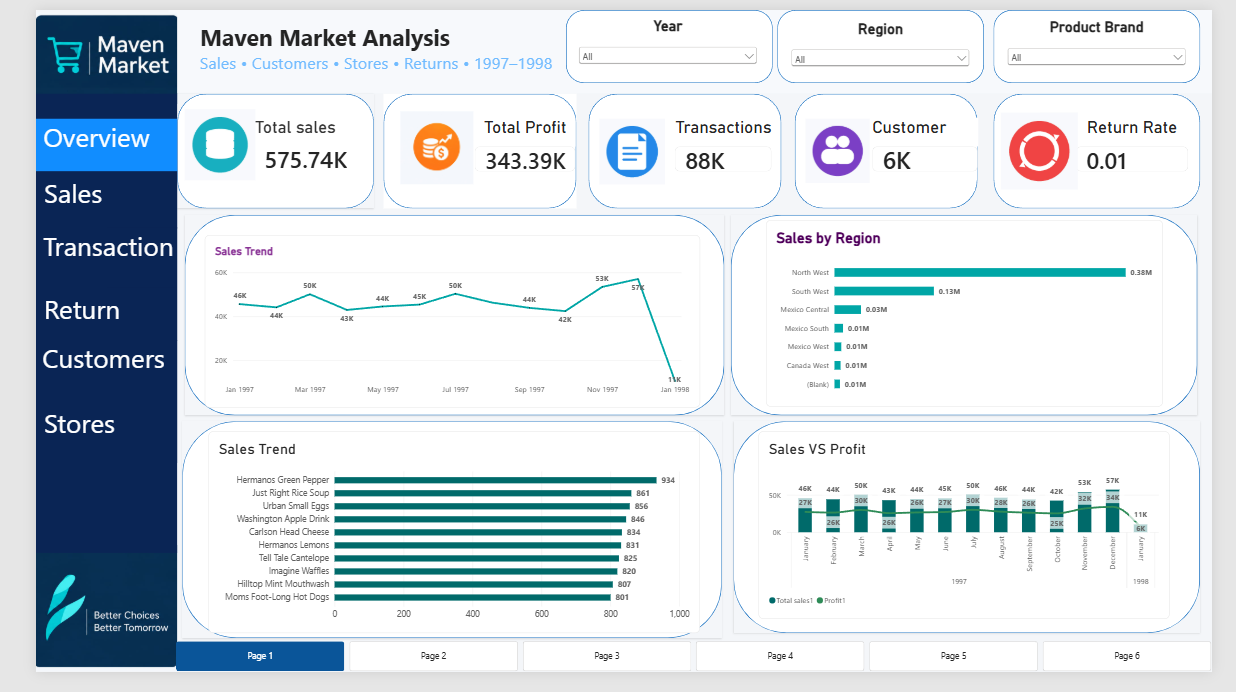

This screenshot's page, from the dashboard's own definition file:
{"tool":"powerbi","page":{"name":"Page 1","canvas":[1920,1080],"ordinal":0},"visuals":[{"type":"textbox","box":[216.1,0,1482,135.8],"z":0},{"type":"textbox","title":"Maven Market Analysis ","box":[216.1,0,1704.3,135.8],"z":1},{"type":"shape","box":[230.5,135.8,321.1,187.3],"z":8},{"type":"shape","box":[568.1,135.8,314.9,187.3],"z":9},{"type":"shape","box":[901.5,135.8,314.9,187.3],"z":10},{"type":"shape","box":[1239.1,135.8,298.5,187.3],"z":11},{"type":"shape","box":[1562.3,135.8,337.6,187.3],"z":12},{"type":"cardVisual","title":"Total sales ","fields":{"Data":["sales.Total sales1"]},"box":[358.1,175,179.1,88.5],"z":13},{"type":"cardVisual","title":"Total Profit ","fields":{"Data":["sales.Profit1"]},"box":[716.3,175,164.7,88.5],"z":14},{"type":"cardVisual","title":"Transactions","fields":{"Data":["sales.Total Transactions1"]},"box":[1043.6,175,158.5,88.5],"z":15},{"type":"cardVisual","title":"Return Rate ","fields":{"Data":["sales.Return rate1"]},"box":[1698.1,175,183.2,88.5],"z":16},{"type":"cardVisual","title":"Customer","fields":{"Data":["sales.total customers1"]},"box":[1364.7,175,172.9,88.5],"z":17},{"type":"shape","box":[243.2,334.1,881,327.3],"z":18},{"type":"shape","box":[1134.1,334.1,761.6,327.3],"z":19},{"type":"shape","box":[238.6,670.5,881,354],"z":20},{"type":"shape","box":[1138.6,670.5,761.6,345.8],"z":21},{"type":"image","box":[0,0,230.5,156.4],"z":23},{"type":"image","box":[0,870.7,230.5,209.9],"z":24},{"type":"textbox","box":[0,135.8,230.5,749.2],"z":25},{"type":"image","box":[242.9,156.4,115.3,125.6],"z":28},{"type":"image","box":[901.5,177,142,107],"z":29},{"type":"image","box":[584.6,164.7,142,119.4],"z":30},{"type":"image","box":[1239.1,177,140,105],"z":31},{"type":"image","box":[1562.3,166.7,150.3,125.6],"z":32},{"type":"lineChart","title":"Sales Trend ","fields":{"Category":["sales.transaction_date.Variation.Date Hierarchy.Year","sales.transaction_date.Variation.Date Hierarchy.Month"],"Y":["sales.Total sales1"]},"box":[275.8,366.4,808.9,282],"z":33},{"type":"clusteredBarChart","title":"Sales by Region","fields":{"Category":["MavenMarket_Regions.sales_region"],"Y":["sales.Total sales1"]},"box":[1190.9,343.2,648.4,304.6],"z":34},{"type":"clusteredBarChart","title":"Sales Trend ","fields":{"Category":["MavenMarket_Products.product_name"],"Y":["sales.Total sales1"]},"box":[281.8,688.6,802.7,329.3],"z":35},{"type":"lineClusteredColumnComboChart","title":"Sales VS Profit","fields":{"Category":["sales.transaction_date.Variation.Date Hierarchy.Year","sales.transaction_date.Variation.Date Hierarchy.Month"],"Y":["sales.Total sales1"],"Y2":["sales.Profit1"]},"box":[1179.5,688.6,671,306.7],"z":36},{"type":"textbox","box":[0,177,230.5,86.4],"z":37},{"type":"textbox","box":[0,263.5,230.5,92.6],"z":38},{"type":"textbox","box":[0,356.1,230.5,96.7],"z":39},{"type":"textbox","box":[0,452.8,230.5,86.4],"z":40},{"type":"textbox","box":[0,539.3,230.5,98.8],"z":41},{"type":"textbox","box":[0,638.1,230.5,100.9],"z":42},{"type":"shape","box":[1562.3,0,337.6,119.4],"z":43},{"type":"shape","box":[1210.3,0,337.6,119.4],"z":44},{"type":"shape","box":[864.5,0,337.6,119.4],"z":45},{"type":"slicer","title":"Year","fields":{"Values":["sales.transaction year"]},"box":[881,12.3,300.5,88.5],"z":46},{"type":"slicer","title":"Region","fields":{"Values":["MavenMarket_Regions.sales_district"]},"box":[1228.8,16.5,300.5,88.5],"z":47},{"type":"slicer","title":"Product Brand","fields":{"Values":["MavenMarket_Products.product_brand"]},"box":[1580.8,14.4,300.5,88.5],"z":48},{"type":"pageNavigator","box":[228.1,1030.6,1691.9,49.4],"z":49}]}

Visuals, with their boxes in screenshot pixels (x1, y1, x2, y2), scaled from the page's 1920x1080 canvas onto the 1236x692 screenshot:
textbox: [139,0,1093,87]
"Maven Market Analysis " textbox: [139,0,1235,87]
shape: [148,87,355,207]
shape: [366,87,568,207]
shape: [580,87,783,207]
shape: [798,87,990,207]
shape: [1006,87,1223,207]
"Total sales " cardVisual: [231,112,346,169]
"Total Profit " cardVisual: [461,112,567,169]
"Transactions" cardVisual: [672,112,774,169]
"Return Rate " cardVisual: [1093,112,1211,169]
"Customer" cardVisual: [879,112,990,169]
shape: [157,214,724,424]
shape: [730,214,1220,424]
shape: [154,430,721,656]
shape: [733,430,1223,651]
image: [0,0,148,100]
image: [0,558,148,691]
textbox: [0,87,148,567]
image: [156,100,231,181]
image: [580,113,672,182]
image: [376,106,468,182]
image: [798,113,888,181]
image: [1006,107,1102,187]
"Sales Trend " lineChart: [178,235,698,415]
"Sales by Region" clusteredBarChart: [767,220,1184,415]
"Sales Trend " clusteredBarChart: [181,441,698,652]
"Sales VS Profit" lineClusteredColumnComboChart: [759,441,1191,638]
textbox: [0,113,148,169]
textbox: [0,169,148,228]
textbox: [0,228,148,290]
textbox: [0,290,148,345]
textbox: [0,346,148,409]
textbox: [0,409,148,474]
shape: [1006,0,1223,77]
shape: [779,0,996,77]
shape: [557,0,774,77]
"Year" slicer: [567,8,761,65]
"Region" slicer: [791,11,984,67]
"Product Brand" slicer: [1018,9,1211,66]
pageNavigator: [147,660,1235,691]
